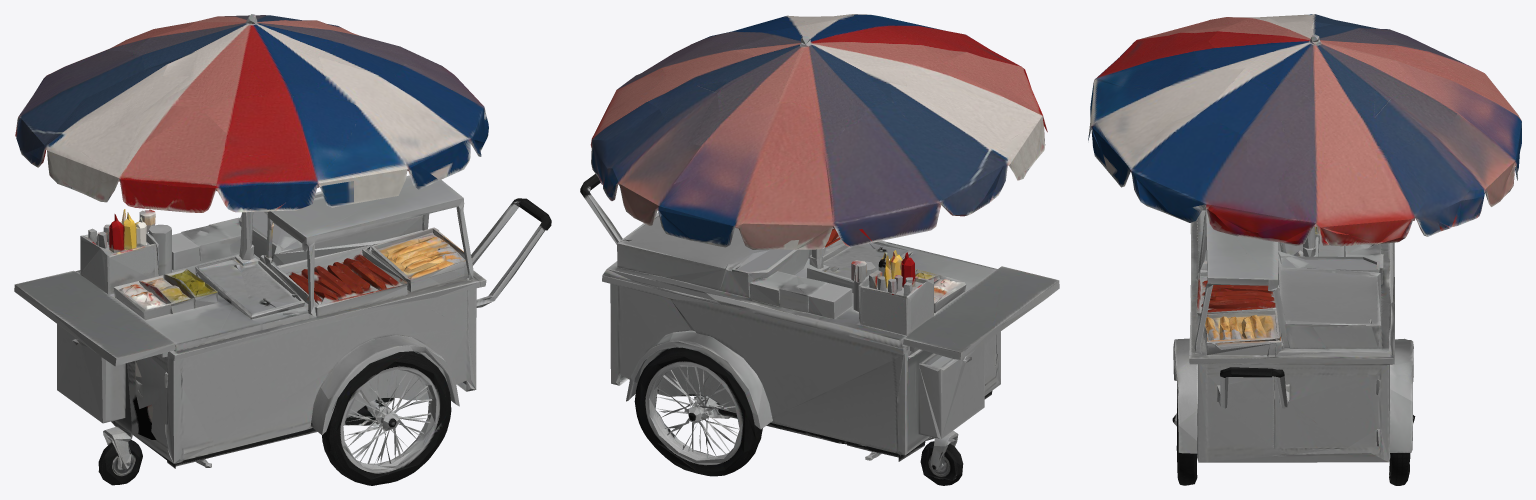
File: food-cart.glb
3 views of the same model, side by side, from view 1: azimuth 30°, elevation 25°; view 2: azimuth 150°, elevation 25°; view 3: azimuth 270°, elevation 25° (orthographic). The views are drawn at different scales.
Visible parts, largest first — view 1: output_unwrapped; view 2: output_unwrapped; view 3: output_unwrapped.
Part boxes in pixels (left/top/right/bottom): output_unwrapped: left=14, top=14, right=551, bottom=485; output_unwrapped: left=580, top=14, right=1059, bottom=485; output_unwrapped: left=1088, top=14, right=1521, bottom=485.
Bounding box in the file's own units: 2.46 × 2.2 × 2.09.
1 material, 1 textured.
